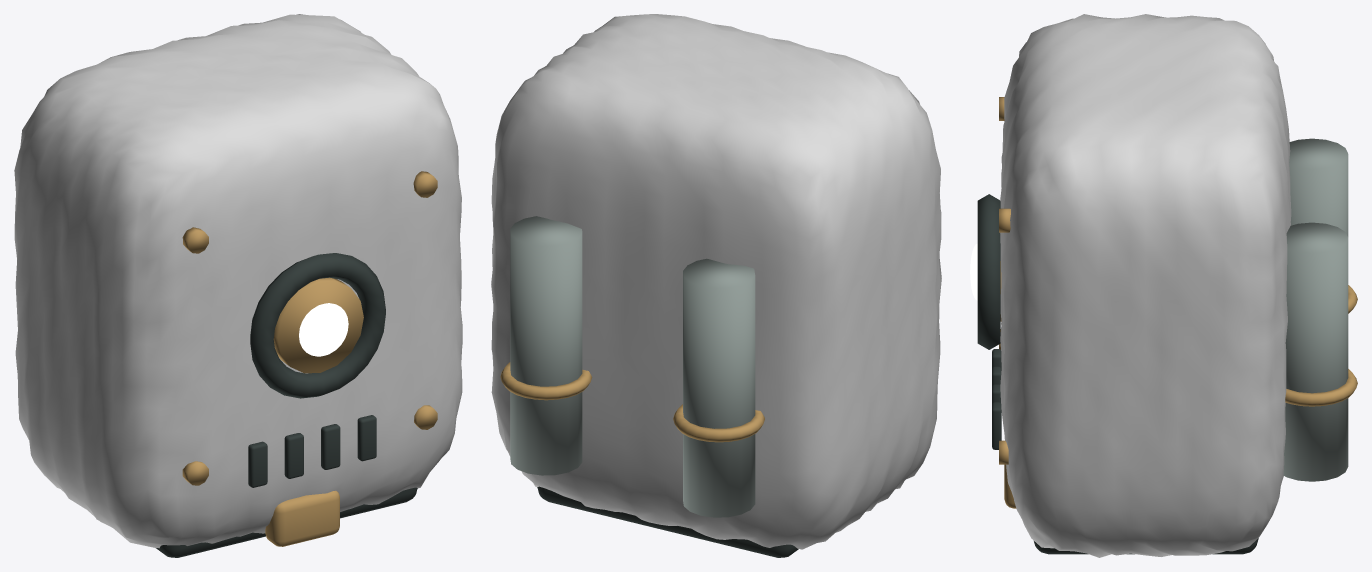
File: deadeye-torso-0.glb
3 views of the same model, side by side, from view 1: azimuth 30°, elevation 25°; view 2: azimuth 150°, elevation 25°; view 3: azimuth 270°, elevation 25° (orthographic).
Visible parts, largest first — view 1: torso_clay, torso_mechanism, torso_brass, torso_lens; view 2: torso_clay, torso_steel, torso_brass, torso_mechanism; view 3: torso_clay, torso_steel, torso_mechanism, torso_brass.
Part boxes in pixels (x1,y1,x2,y2): torso_clay: [14, 14, 462, 548]; torso_mechanism: [156, 253, 417, 557]; torso_brass: [182, 171, 437, 546]; torso_lens: [299, 303, 348, 356]; torso_clay: [491, 14, 941, 549]; torso_steel: [510, 216, 755, 517]; torso_brass: [500, 362, 764, 442]; torso_mechanism: [537, 486, 798, 557]; torso_clay: [1000, 14, 1291, 557]; torso_steel: [1283, 138, 1348, 481]; torso_mechanism: [977, 194, 1258, 554]; torso_brass: [999, 97, 1357, 508].
Size of the model in its own units: 1.09 by 1.25 by 1.01.
